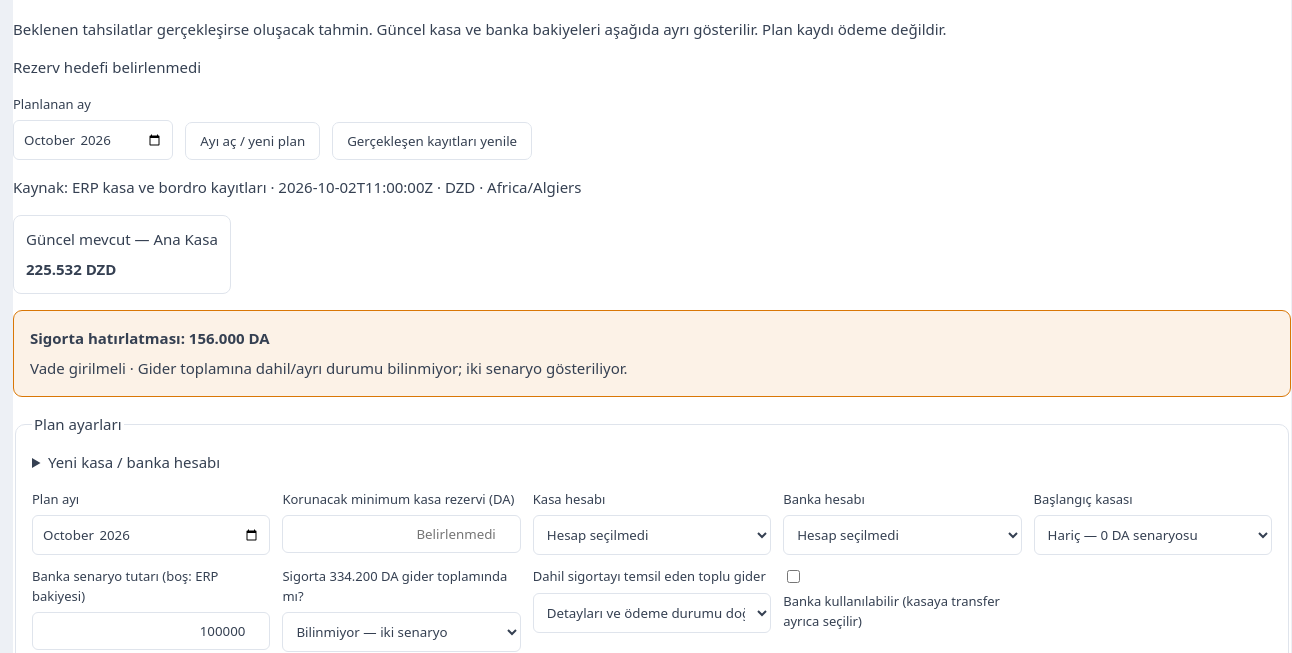
Test: ReservePlanTab › checks missing month before saving and saves only a plan payload once specified
Expected: the text "Güncel mevcut — Ana Kasa" is shown, top-left (26, 228), bottom-right (218, 250)
Clear the field labelled "Plan ayı": x=151, y=535 top-left (32, 515), bottom-right (270, 555)
(page scrolled)
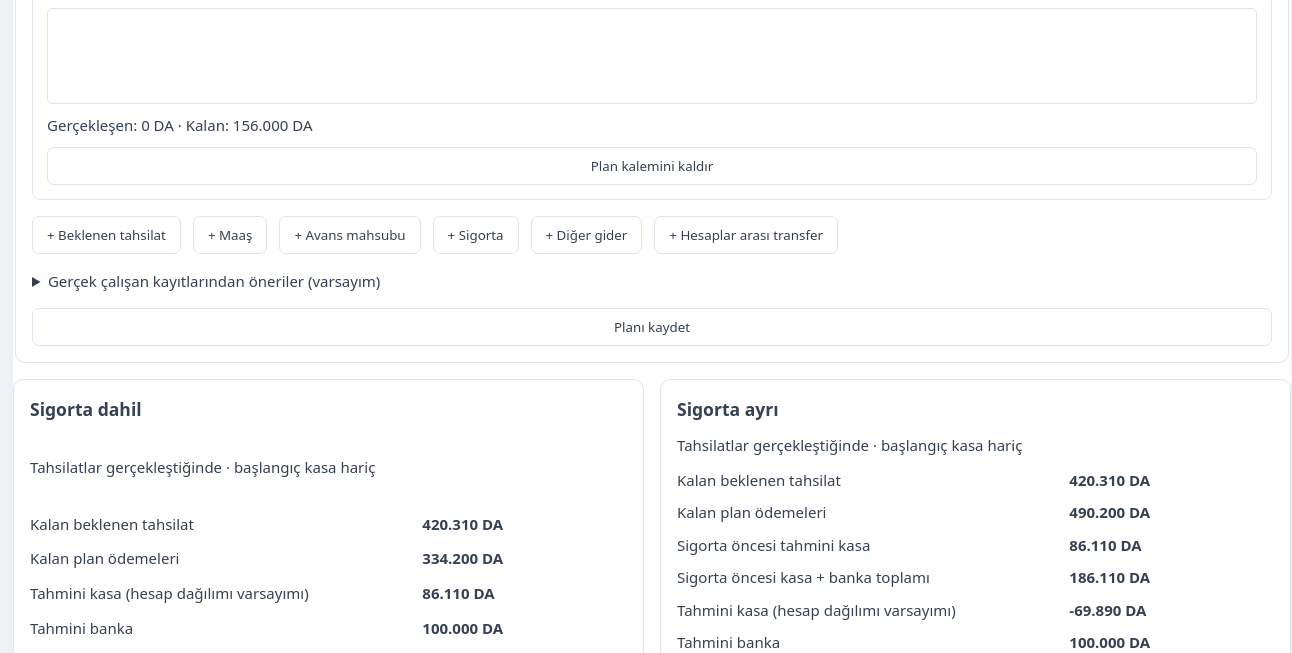
Click the button "Planı kaydet": x=652, y=327 top-left (32, 308), bottom-right (1272, 346)
(page scrolled)
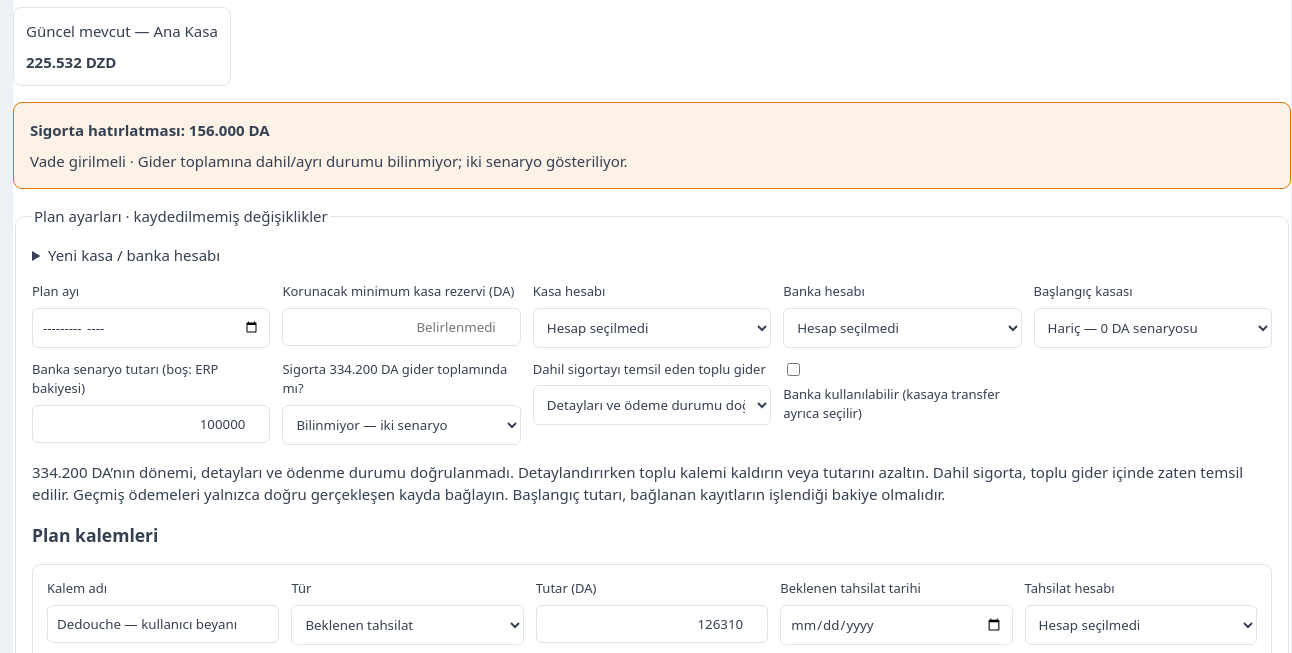
In the field labelled "Plan ayı": x=151, y=328 top-left (32, 308), bottom-right (270, 348), type "2026-10"
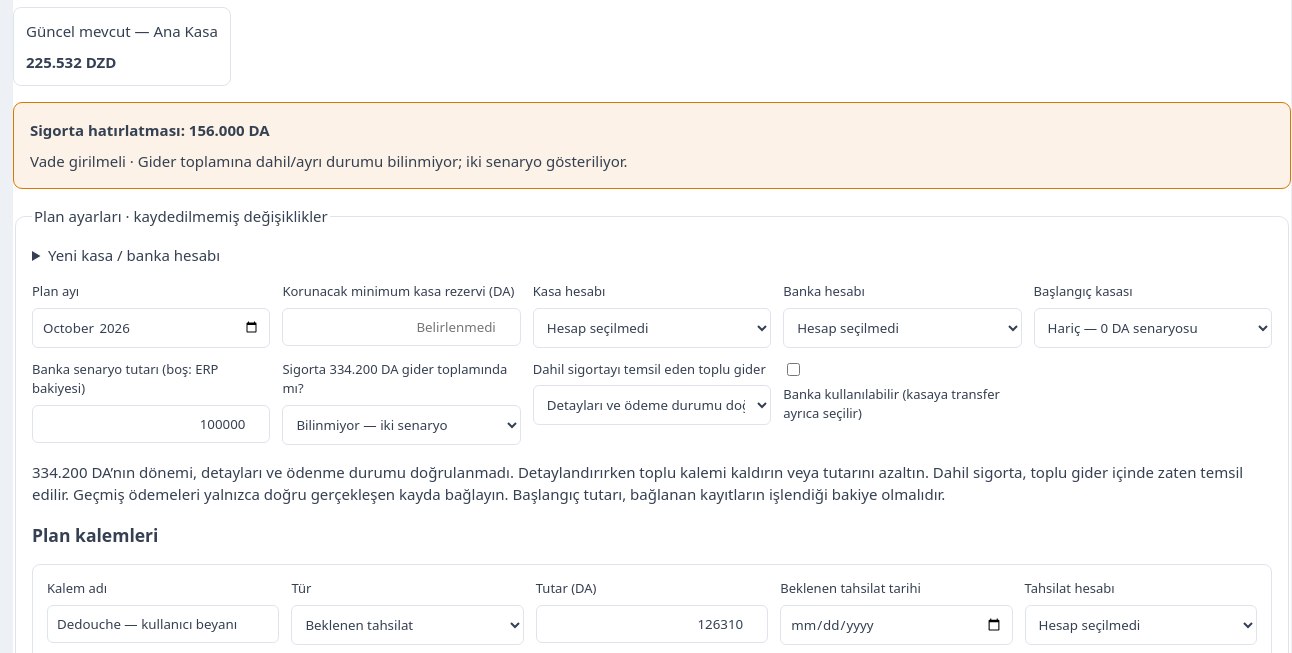
In the number field labelled "Korunacak minimum kasa rezervi (DA)": x=402, y=327 top-left (282, 308), bottom-right (521, 346), type "50000"
(page scrolled)
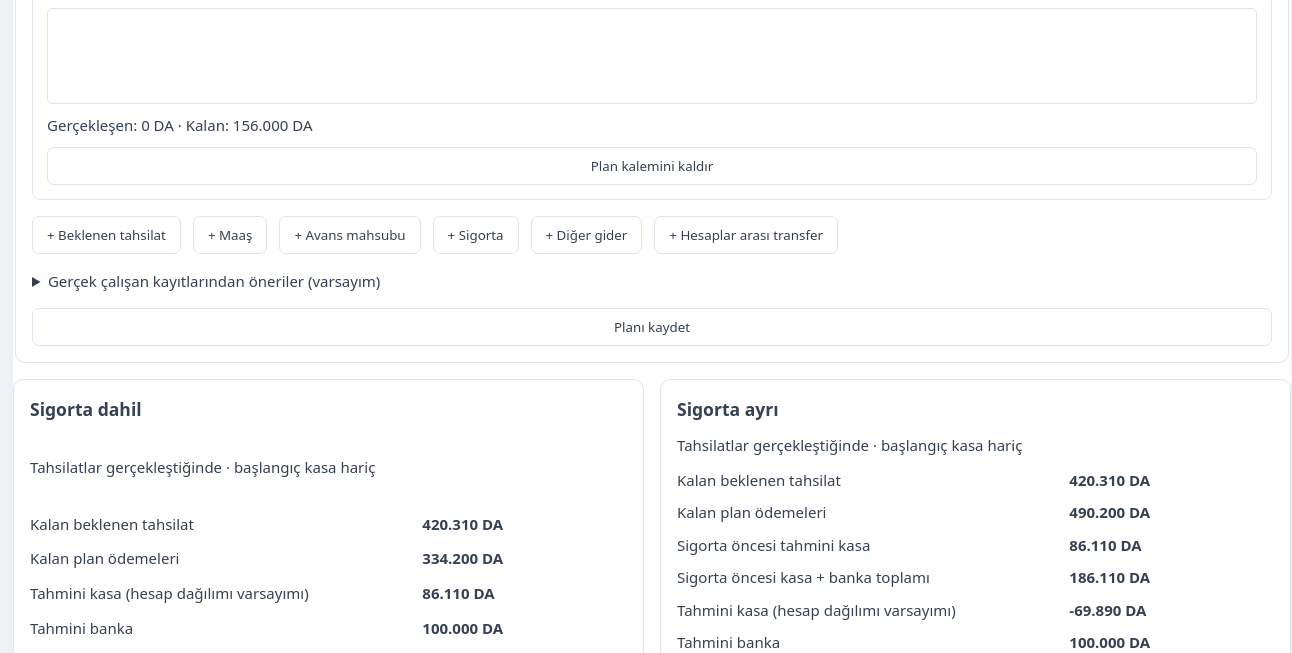
Click the button "Planı kaydet": x=652, y=327 top-left (32, 308), bottom-right (1272, 346)
(page scrolled)
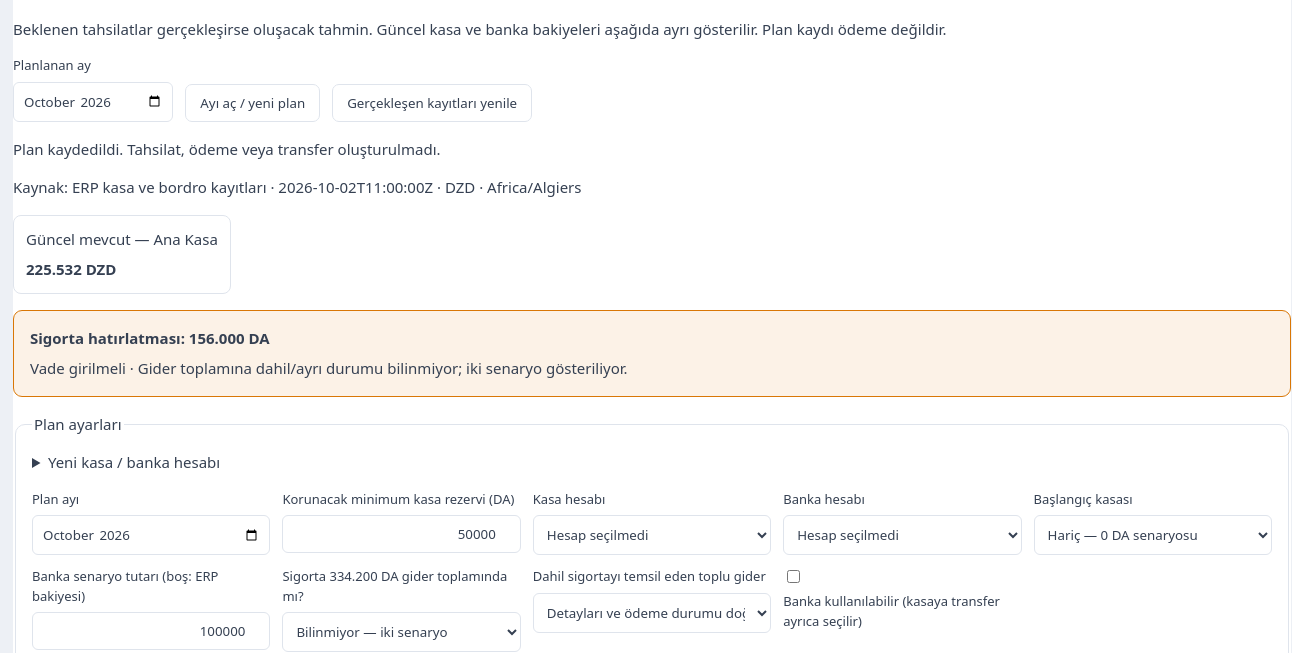
Now the text "Plan kaydedildi. Tahsilat, ödeme veya transfer oluşturulmadı." is shown, box top-left (13, 139), bottom-right (440, 159)
